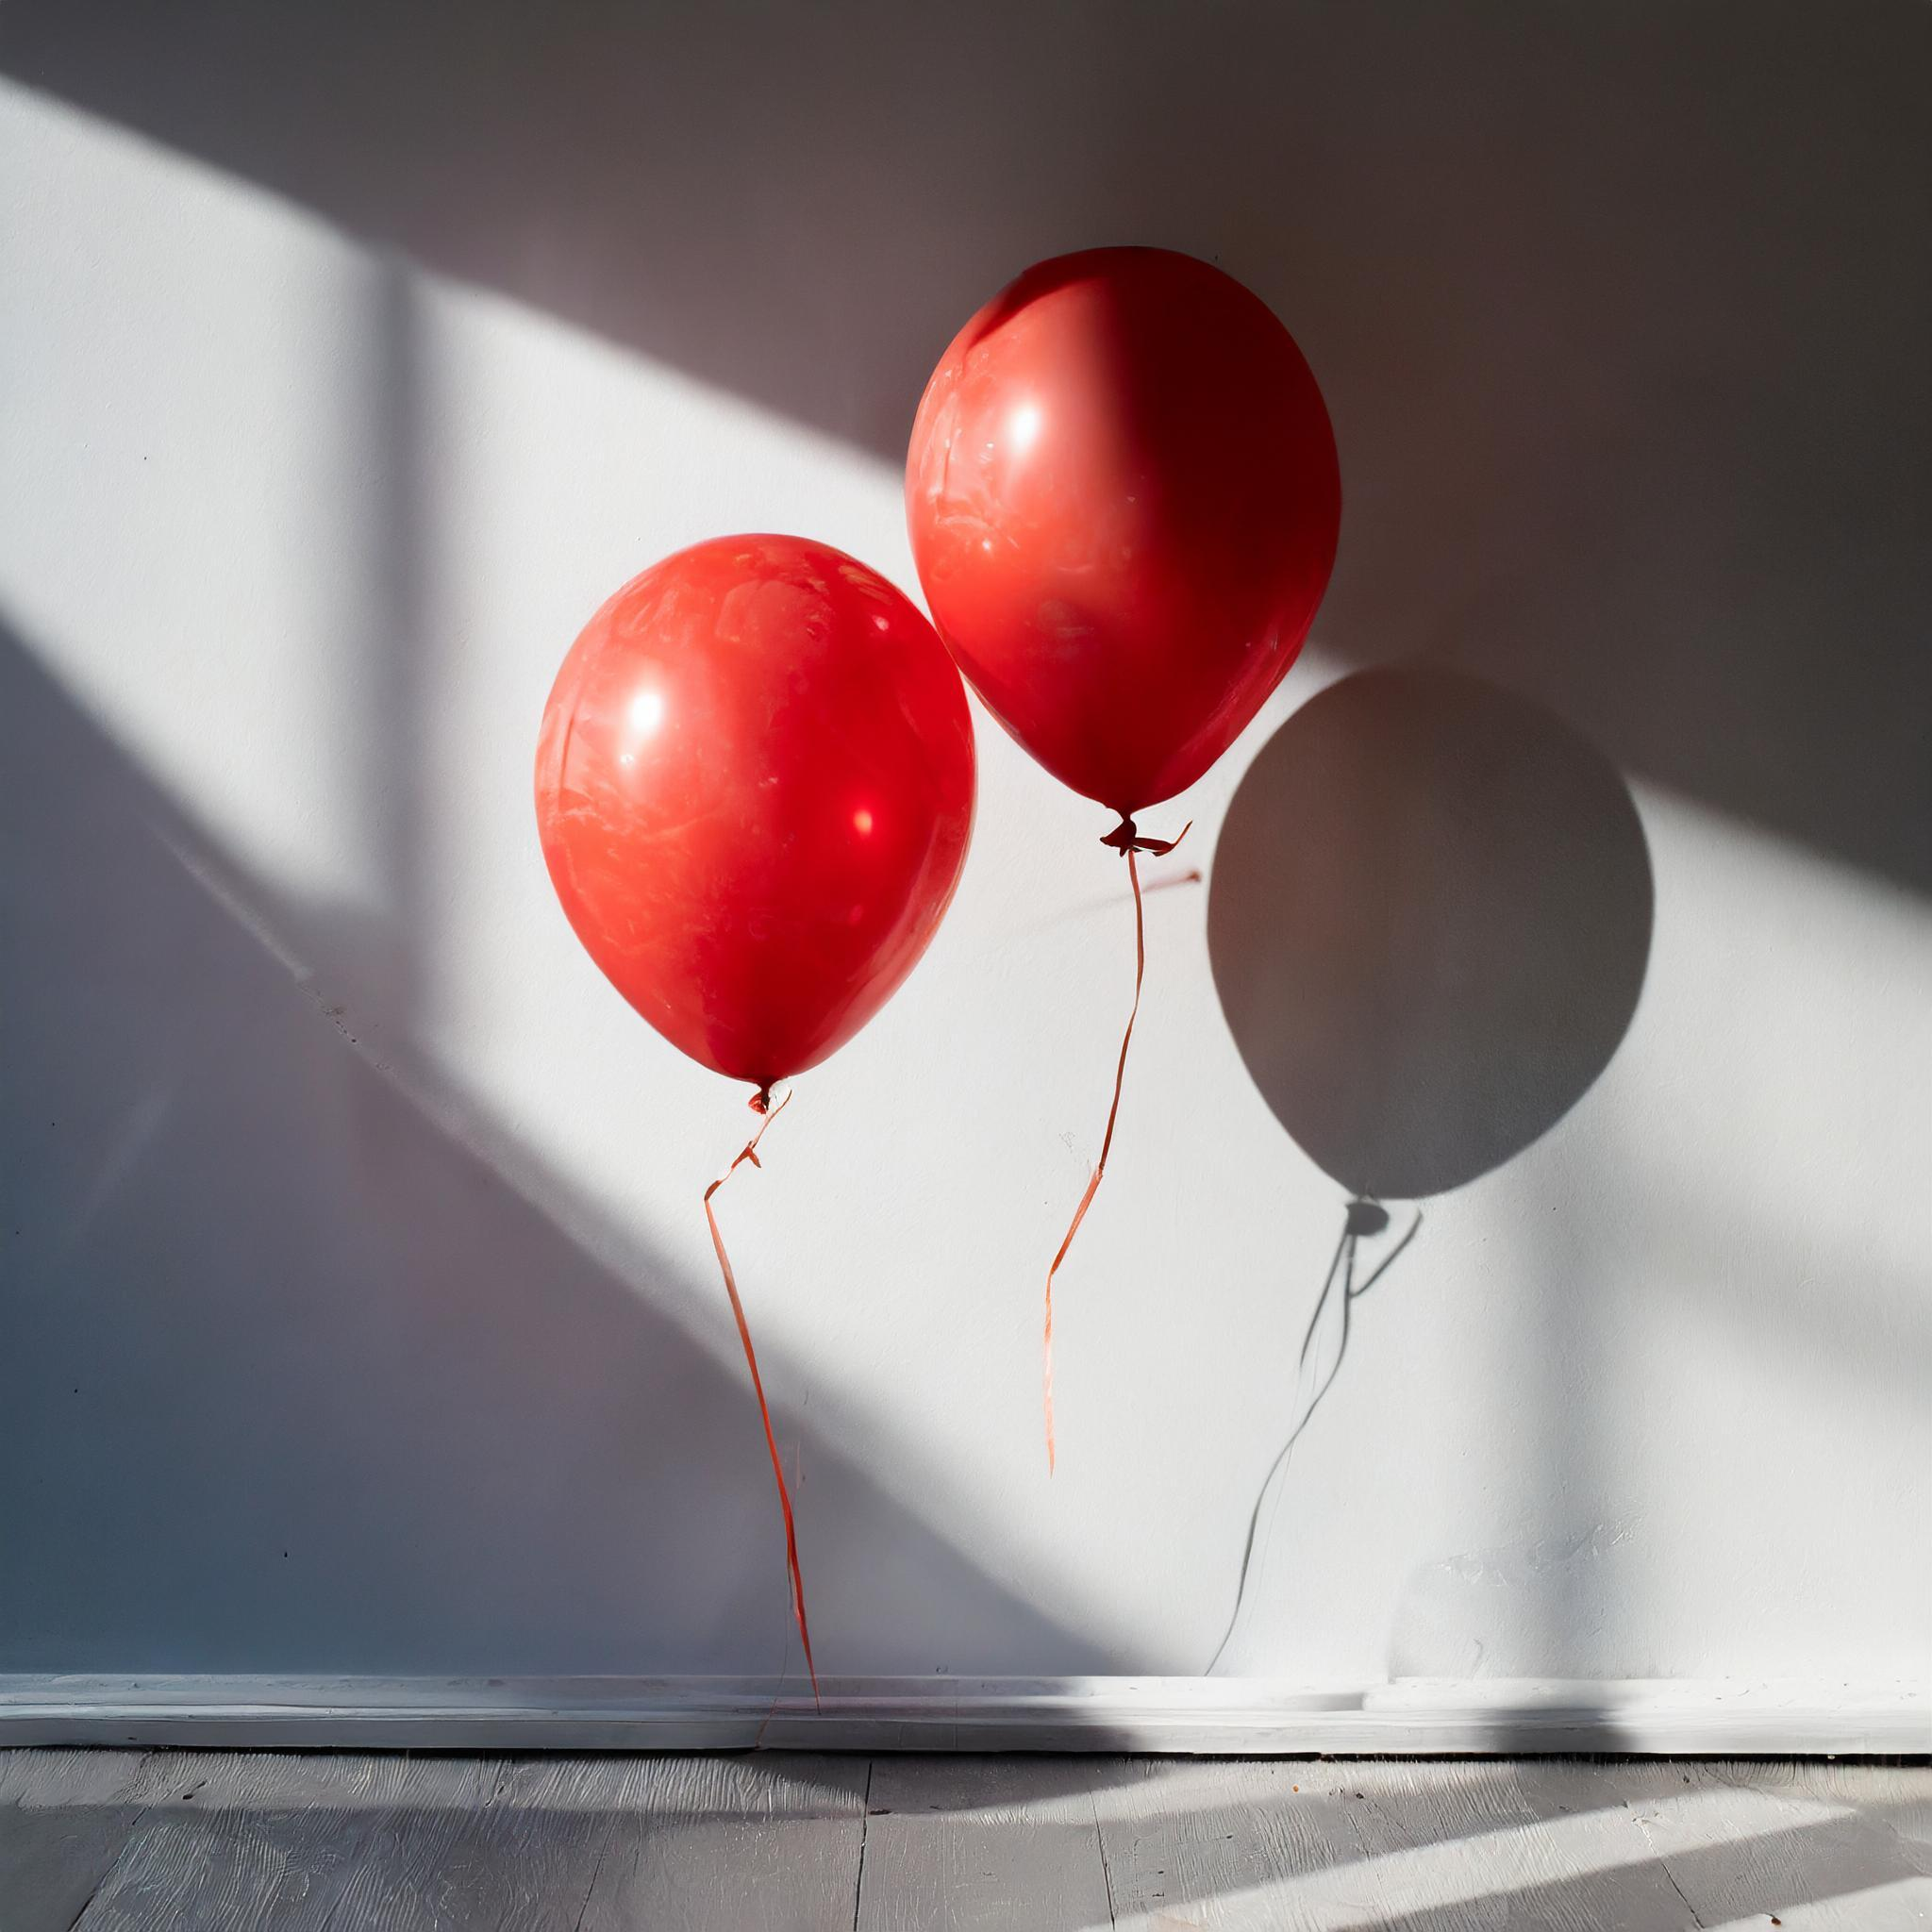red: (892, 218, 1366, 908), (515, 515, 989, 1150)
